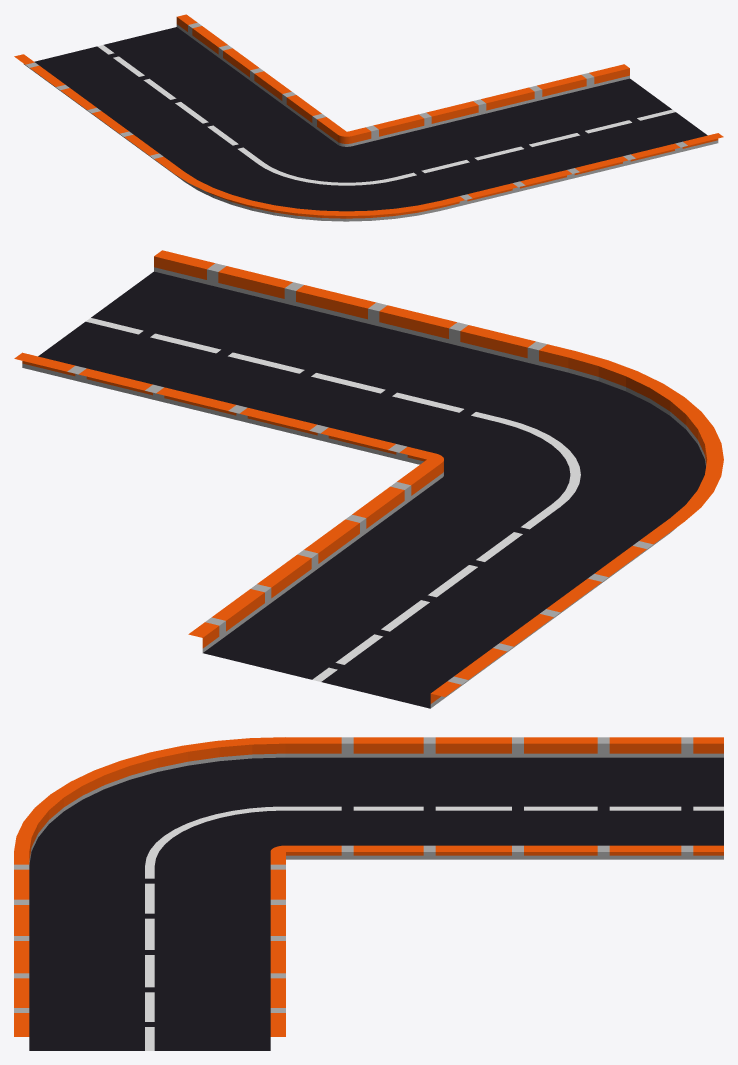
File: TurnLeftUpRoadPart.fbx
The picture shows the model from 3 angles, top to bottom: view 1: azimuth 30°, elevation 25°; view 2: azimuth 150°, elevation 25°; view 3: azimuth 270°, elevation 25°; orthographic projection. The views are drawn at different scales.
Visible parts, largest first — view 1: Plane.001; view 2: Plane.001; view 3: Plane.001.
Boxes of the visible parts, x1,y1,x2,y2 form: Plane.001: (14,14,723,221); Plane.001: (14,250,723,708); Plane.001: (14,737,723,1050).
Size of the model in its own units: 3234 by 70 by 3237.
